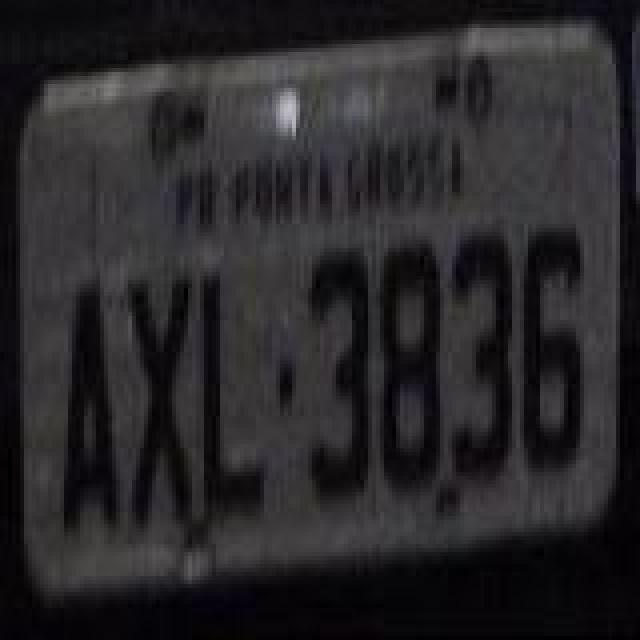3: (446, 224, 514, 492), (302, 244, 370, 504)
6: (520, 226, 584, 478)
8: (380, 240, 444, 492)
A: (58, 278, 118, 538)
L: (200, 272, 264, 524)
X: (126, 274, 194, 534)
